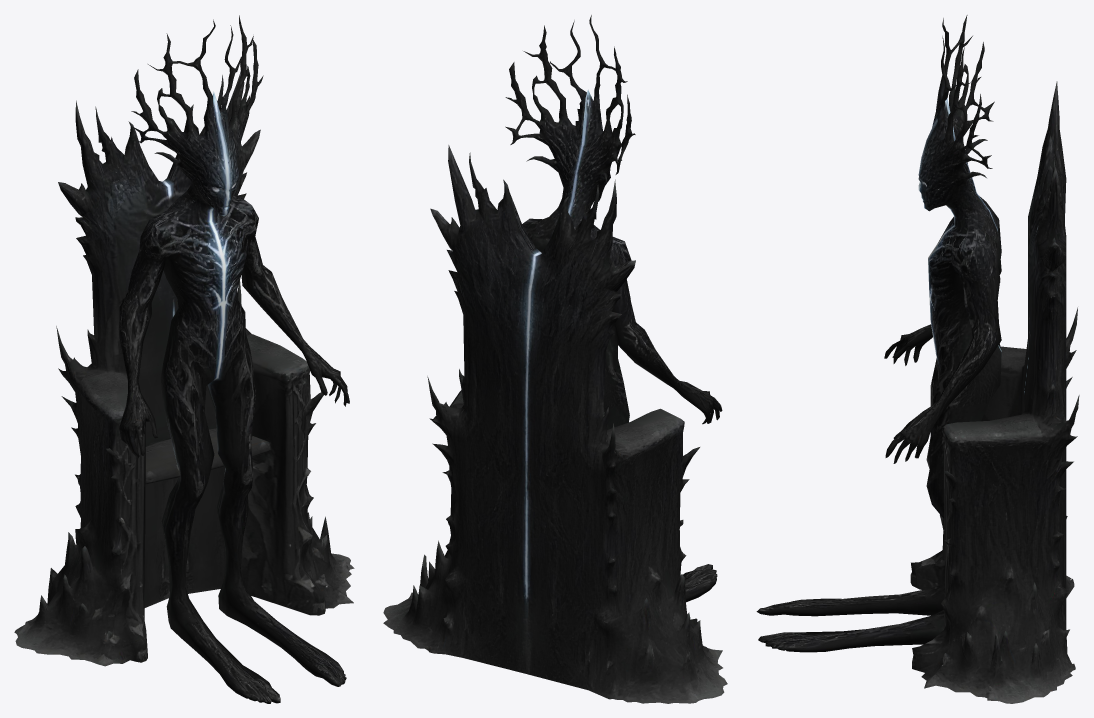
File: selected.glb
3 renders of one model, left to right at view 1: azimuth 30°, elevation 25°; view 2: azimuth 150°, elevation 25°; view 3: azimuth 270°, elevation 25°, orthographic.
Visible parts, largest first — view 1: tripo_node_bd953cf7-f335-42d8-9256-0b8bd25c37fb; view 2: tripo_node_bd953cf7-f335-42d8-9256-0b8bd25c37fb; view 3: tripo_node_bd953cf7-f335-42d8-9256-0b8bd25c37fb.
Part boxes in pixels (bbox=[...]): tripo_node_bd953cf7-f335-42d8-9256-0b8bd25c37fb: bbox=[14, 15, 354, 703]; tripo_node_bd953cf7-f335-42d8-9256-0b8bd25c37fb: bbox=[383, 15, 727, 703]; tripo_node_bd953cf7-f335-42d8-9256-0b8bd25c37fb: bbox=[756, 15, 1079, 703].
Bounding box in the file's own units: 0.5684 × 0.998 × 0.4785.
1 material, 1 textured.
